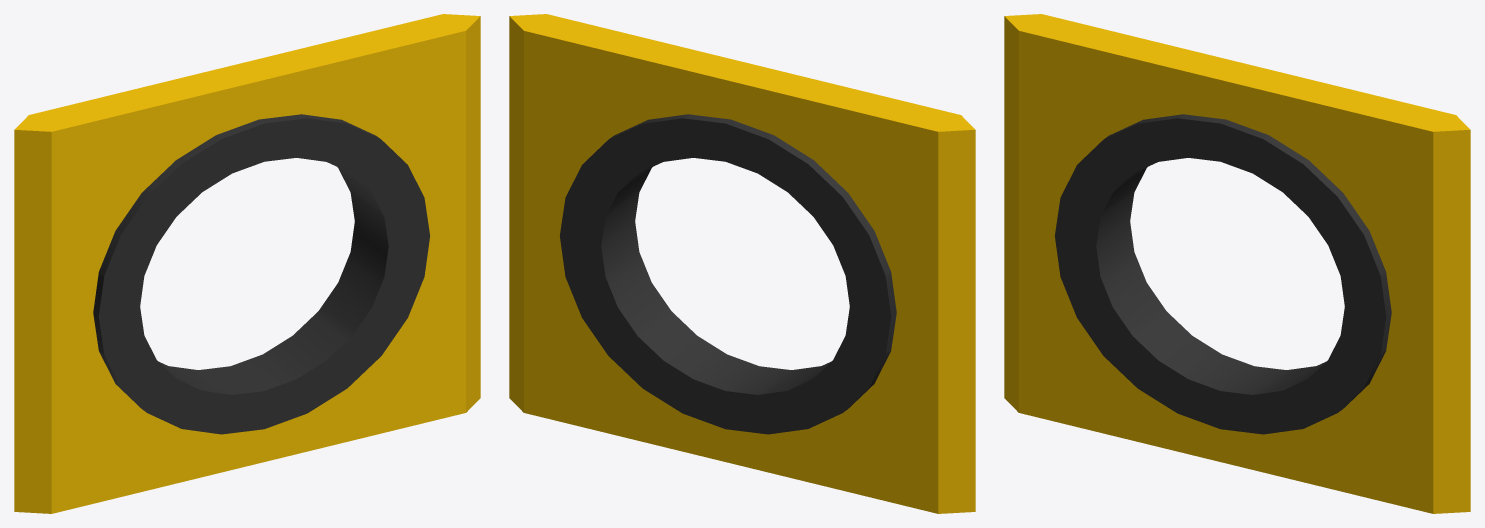
File: Demo_Wall_Round.fbx
3 renders of one model, left to right at view 1: azimuth 30°, elevation 25°; view 2: azimuth 150°, elevation 25°; view 3: azimuth 330°, elevation 25°, orthographic.
Parts seen in each view (by area): view 1: mergedBlocks; view 2: mergedBlocks; view 3: mergedBlocks.
Boxes of the visible parts, left/top/right/bottom form: mergedBlocks: left=14, top=14, right=480, bottom=513; mergedBlocks: left=509, top=14, right=975, bottom=513; mergedBlocks: left=1004, top=14, right=1470, bottom=513.
Bounding box in the file's own units: 29.36 × 23 × 3.7.
